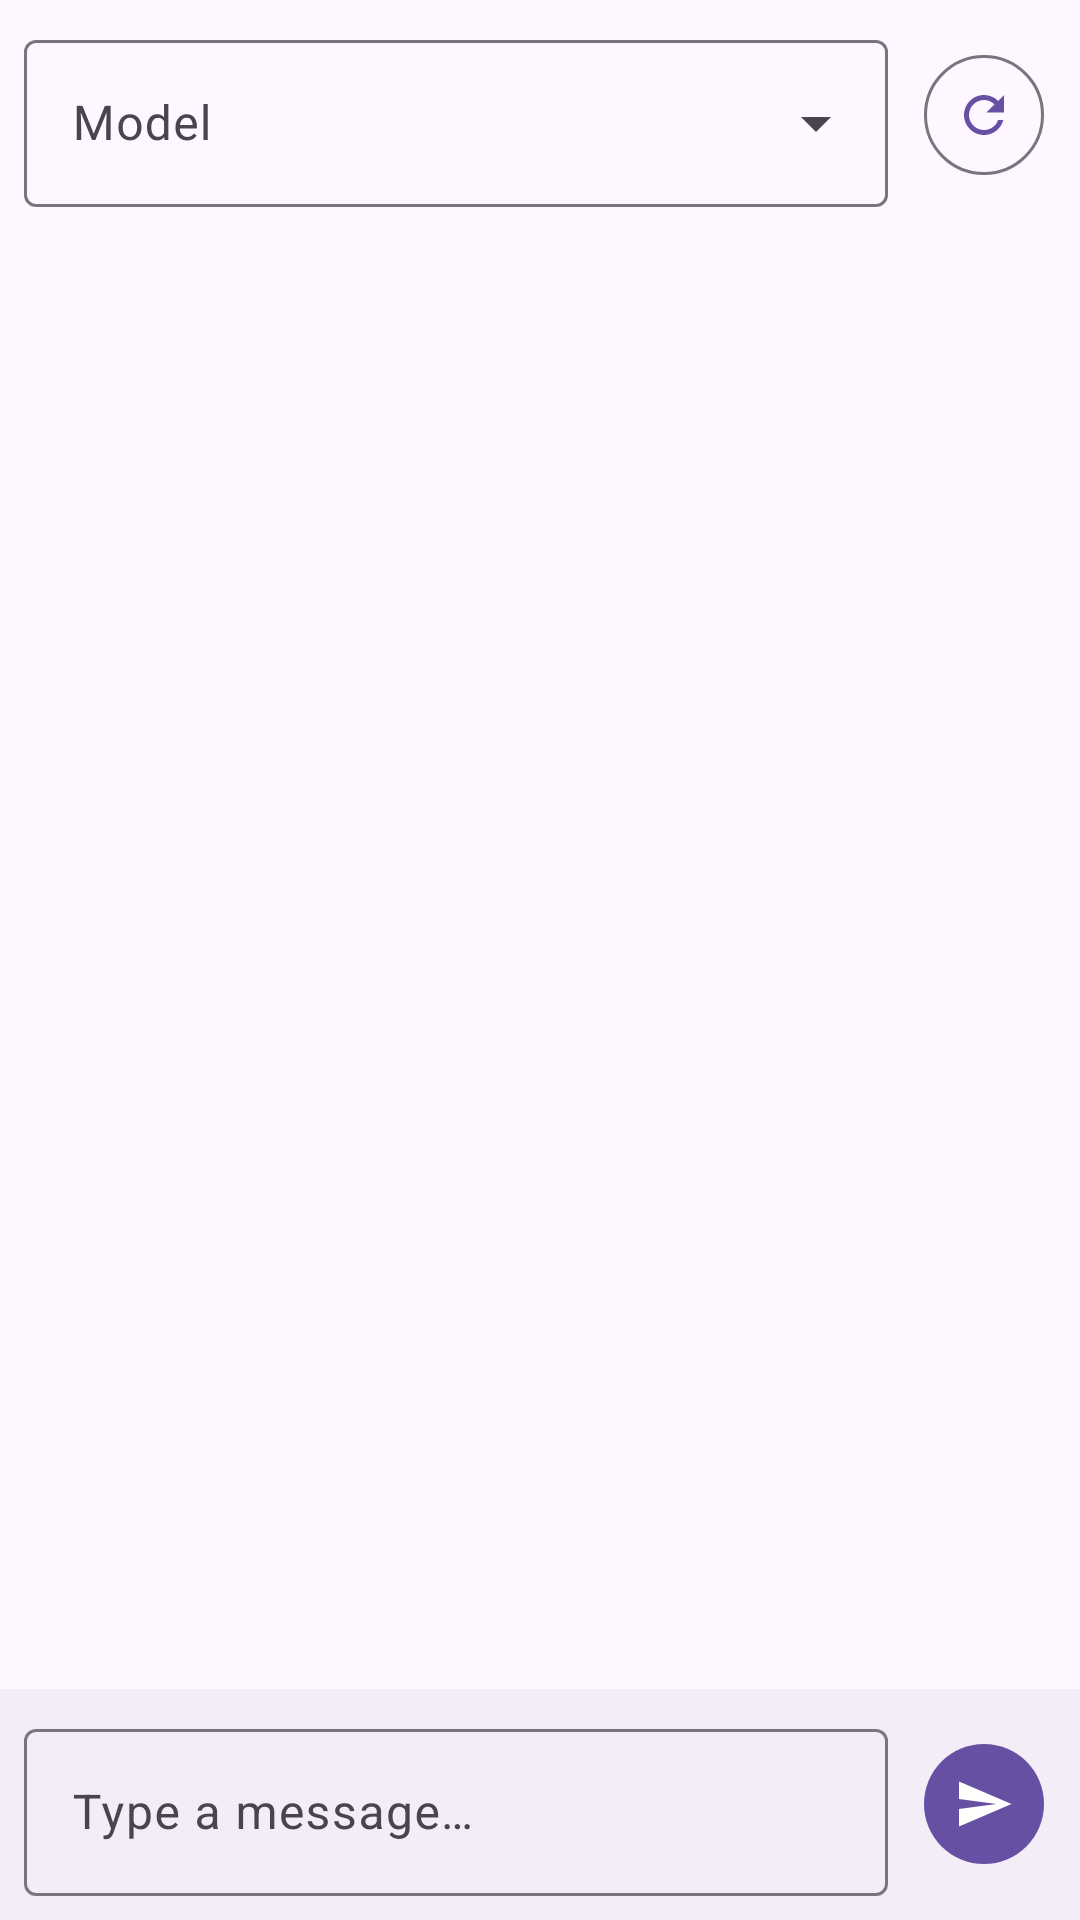

Icons on this 1080*1920 Android screen, each with its box as (x1, y1, x2, y2):
Refresh: (924, 55, 1044, 175)
Send: (924, 1744, 1044, 1864)
